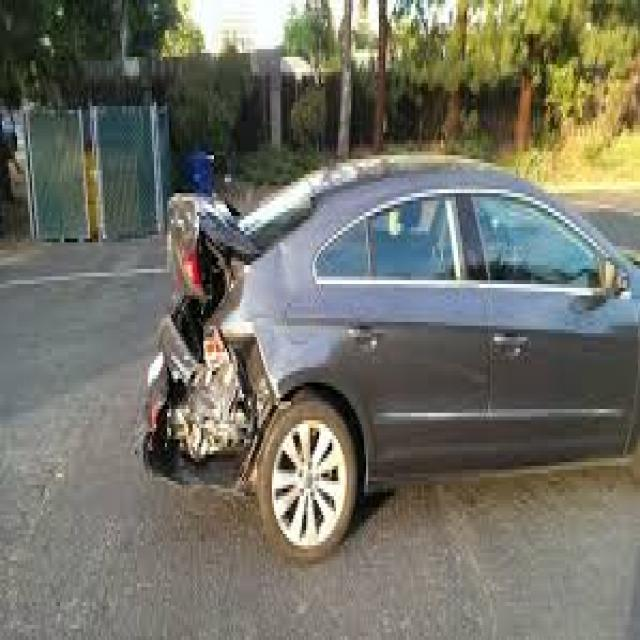moderate: (162, 140, 264, 528)
